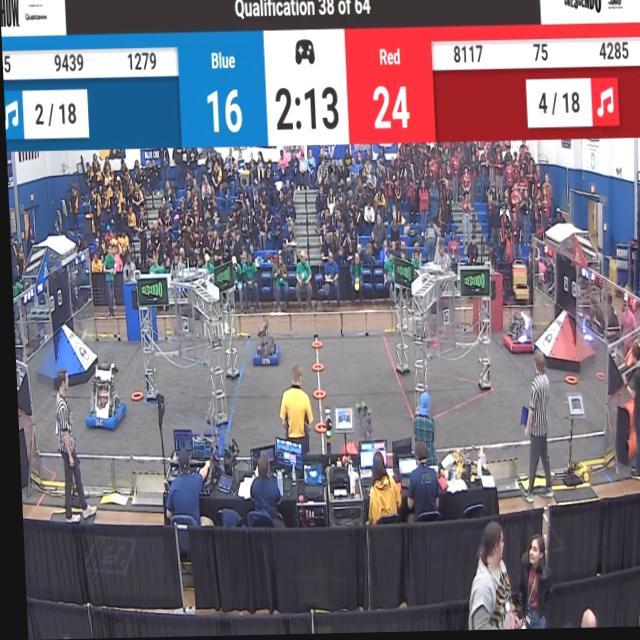Robot: (82, 358, 128, 433), (497, 308, 530, 361), (342, 401, 375, 451), (249, 320, 280, 372)
